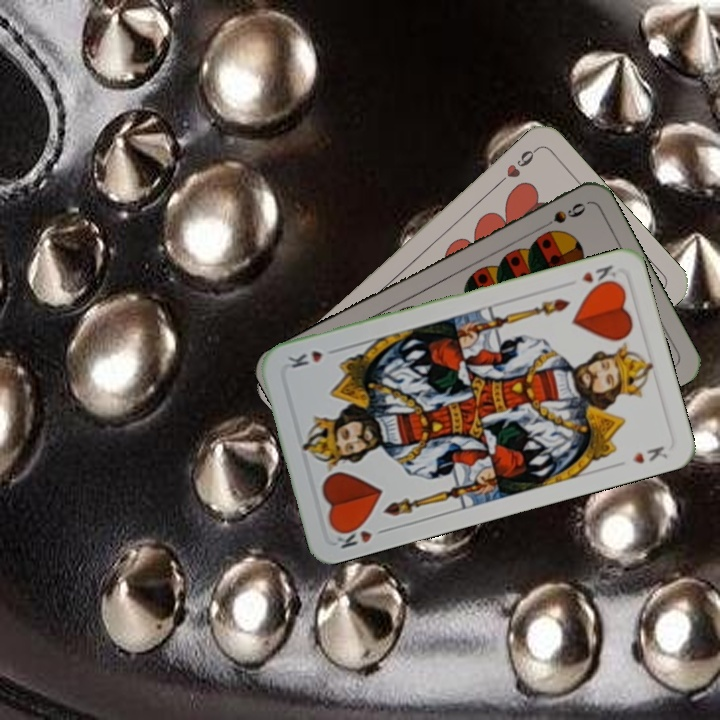H9: (492, 144, 540, 189)
HK: (331, 519, 391, 552), (577, 261, 623, 292)
S9: (534, 198, 588, 234)
